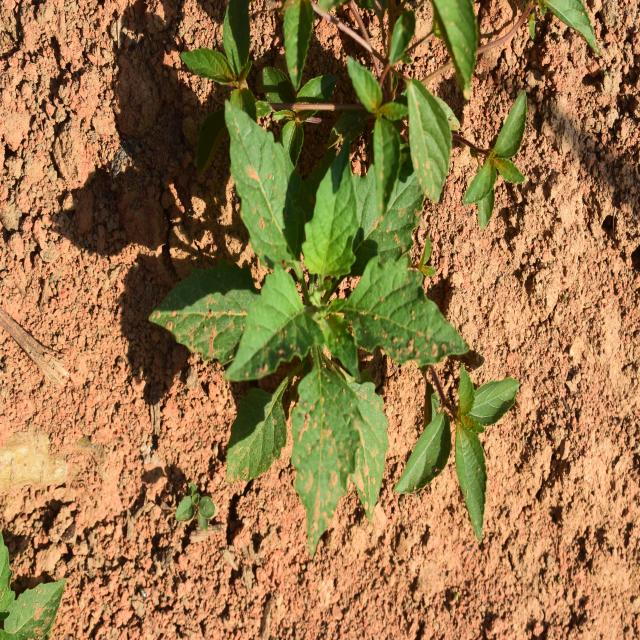Black_nightshade: (160, 137, 425, 512)
